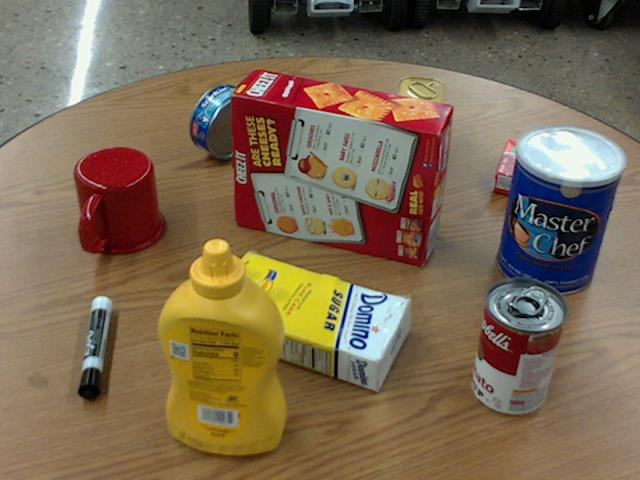cracker_box: (230, 70, 450, 265)
gelatin_box: (493, 137, 568, 203)
large_marker: (76, 296, 110, 397)
master_chef_can: (497, 125, 623, 294)
mug: (74, 147, 165, 253)
mustard_bottle: (156, 238, 283, 453)
potted_meat_can: (391, 76, 445, 176)
sugar_box: (201, 250, 411, 392)
tomato_soup_can: (472, 278, 567, 415)
tuna_fish_can: (189, 84, 258, 159)
